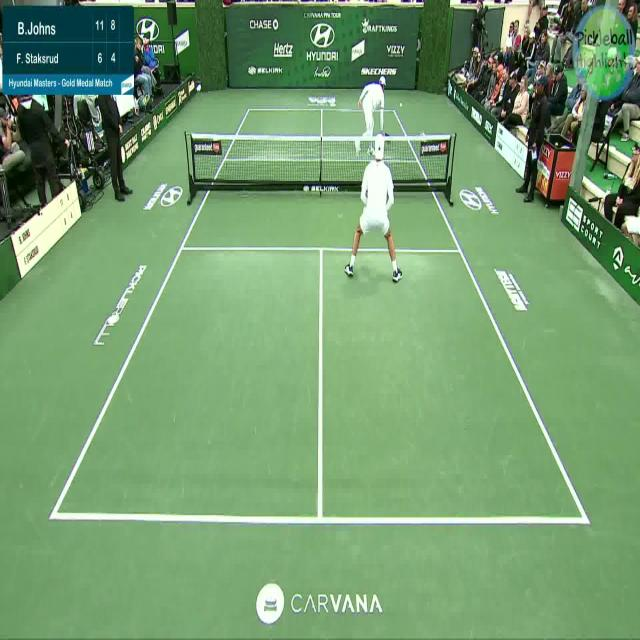ball: (396, 96, 407, 111)
